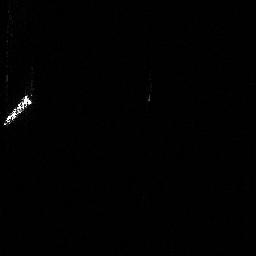ship: (1, 91, 35, 129)
